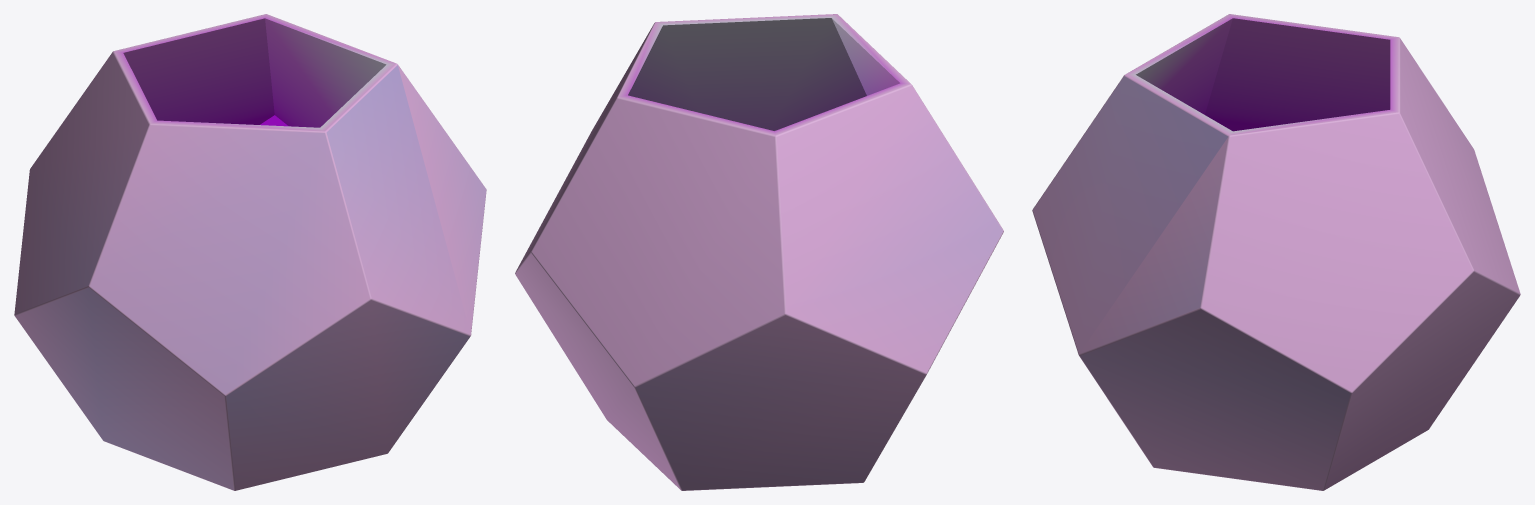
3 renders of one model, left to right at view 1: azimuth 30°, elevation 25°; view 2: azimuth 150°, elevation 25°; view 3: azimuth 270°, elevation 25°, orthographic. The views are drawn at different scales.
Parts seen in each view (by area): view 1: upper; view 2: upper; view 3: upper.
Boxes of the visible parts, x1,y1,x2,y2 form: upper: (14,14,486,490); upper: (515,14,1003,490); upper: (1032,14,1520,490).
Bounding box in the file's own units: 0.3903 × 0.3295 × 0.4102.
